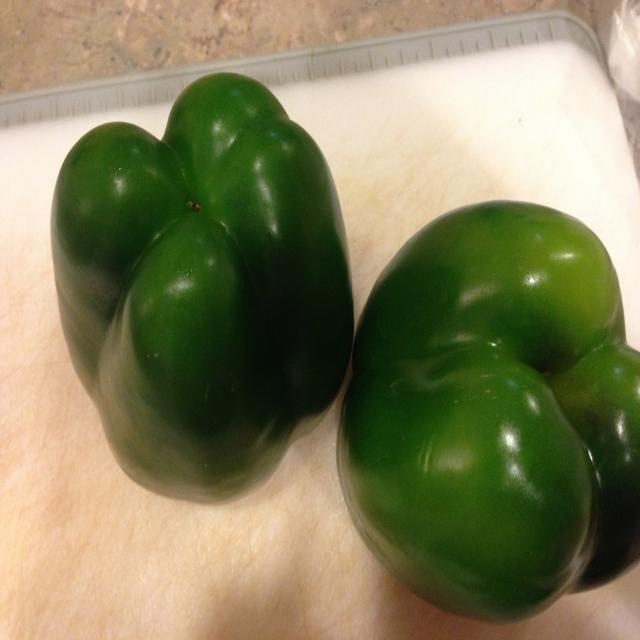bell pepper: (363, 188, 640, 640), (48, 72, 339, 462)
